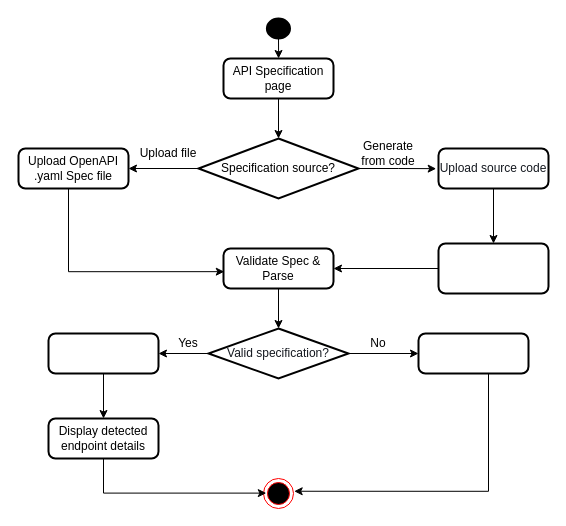
Image size: 566x526. Some labels were removed from this diagram. The centre of each missing label's shape, as x and y in pixels:
"AutoRestTest engine generates specification" belongs at (x=493, y=268).
"Extract endpoints info" belongs at (x=103, y=353).
"Show error with exact description" belongs at (x=473, y=353).
